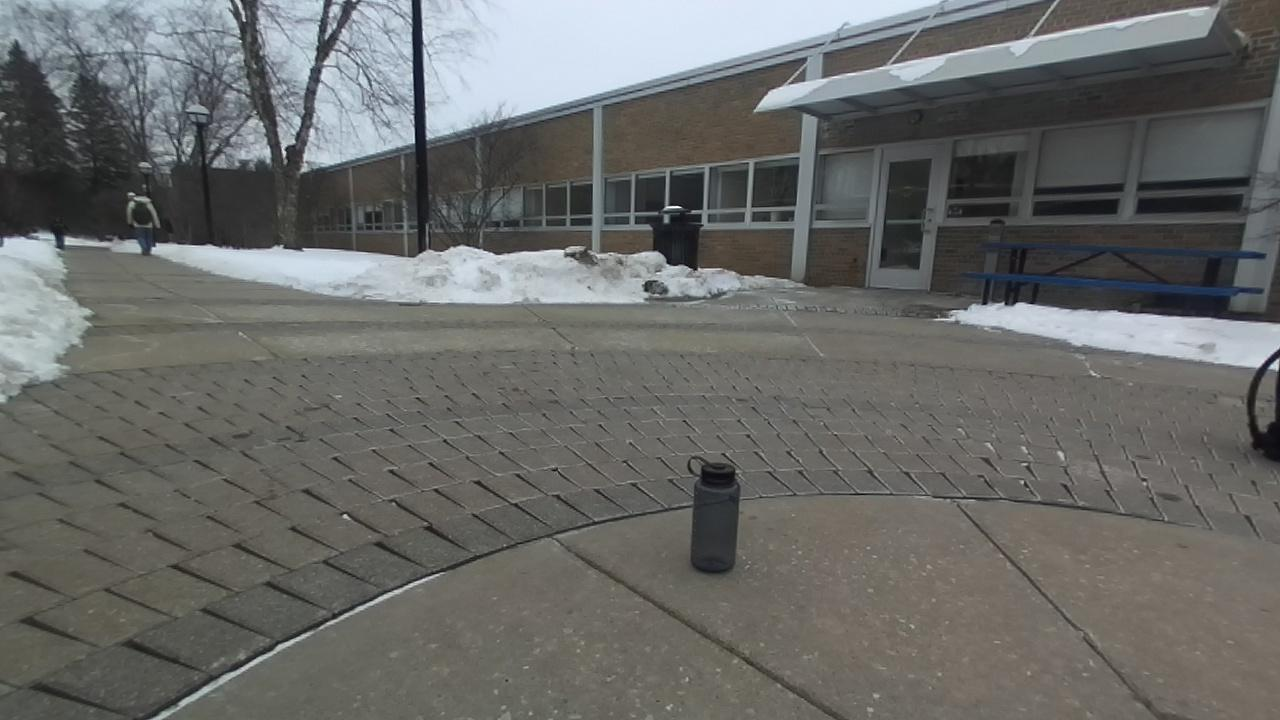bottle: (690, 457, 740, 571)
